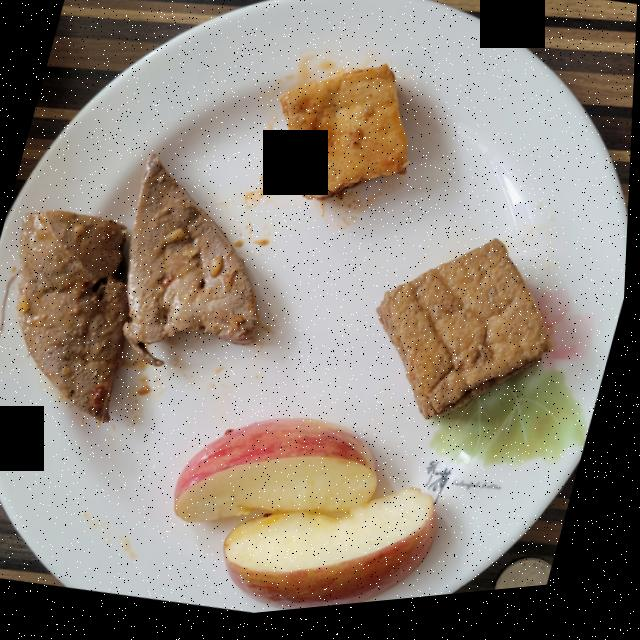apple -sliced-: (179, 424, 441, 615)
coin: (500, 569, 557, 600)
creamy tofu: (281, 72, 410, 206)
egg tofu: (380, 249, 556, 427)
pig liver: (18, 157, 260, 424)
